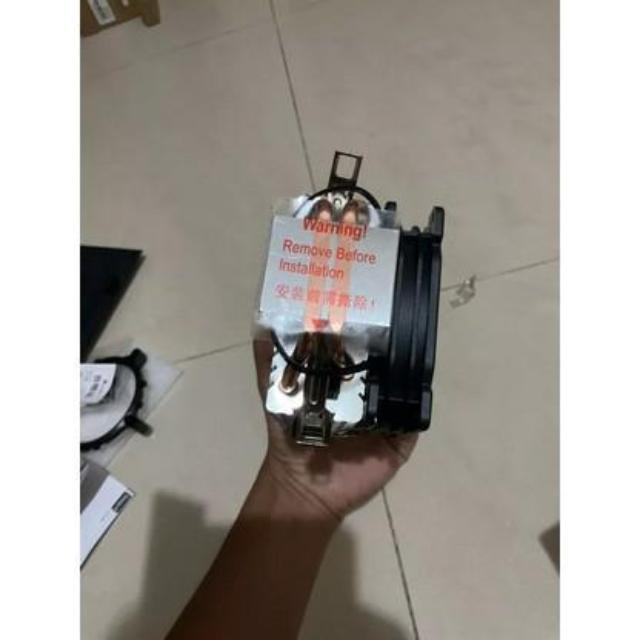CPU_Fan: (256, 184, 441, 461)
